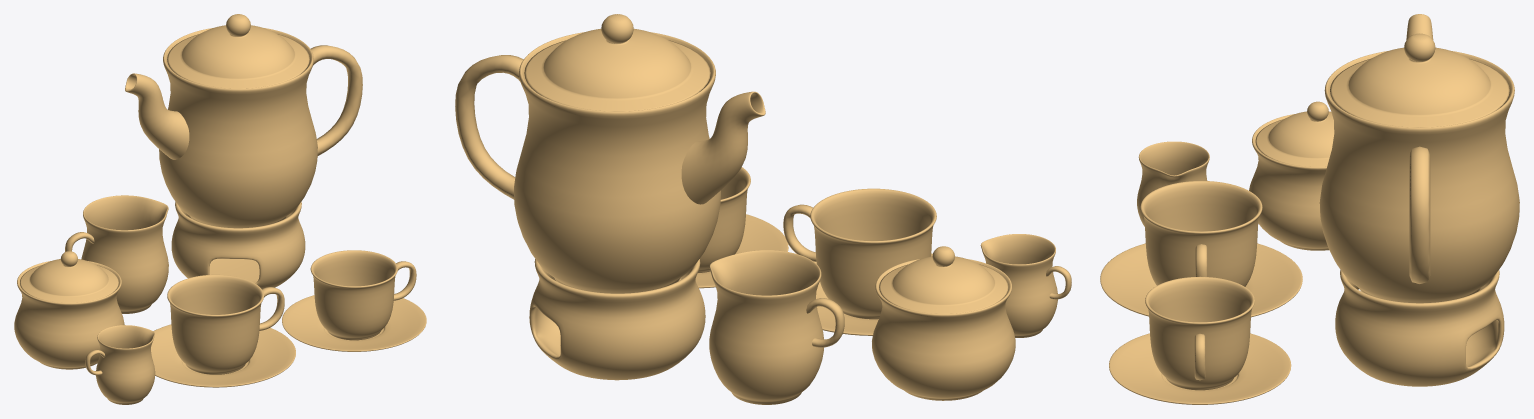
3 views of the same model, side by side, from view 1: azimuth 30°, elevation 25°; view 2: azimuth 150°, elevation 25°; view 3: azimuth 270°, elevation 25° (orthographic). The views are drawn at different scales.
Parts seen in each view (by area): view 1: Archmodels57_053_06, Archmodels57_053_01, Archmodels57_053_05, Archmodels57_053_09, Archmodels57_053_02, Archmodels57_053_08, Archmodels57_053_04, Archmodels57_053_00, Archmodels57_053_03, Archmodels57_053_07; view 2: Archmodels57_053_06, Archmodels57_053_05, Archmodels57_053_09, Archmodels57_053_01, Archmodels57_053_08, Archmodels57_053_07, Archmodels57_053_04, Archmodels57_053_02, Archmodels57_053_03, Archmodels57_053_00; view 3: Archmodels57_053_06, Archmodels57_053_09, Archmodels57_053_01, Archmodels57_053_02, Archmodels57_053_03, Archmodels57_053_08, Archmodels57_053_00, Archmodels57_053_07, Archmodels57_053_04.
Part boxes in pixels (left/top/right/bottom): Archmodels57_053_06: left=125, top=14, right=362, bottom=228; Archmodels57_053_01: left=167, top=274, right=284, bottom=374; Archmodels57_053_05: left=65, top=195, right=168, bottom=313; Archmodels57_053_09: left=171, top=201, right=305, bottom=288; Archmodels57_053_02: left=310, top=250, right=416, bottom=340; Archmodels57_053_08: left=14, top=261, right=124, bottom=369; Archmodels57_053_04: left=85, top=325, right=155, bottom=404; Archmodels57_053_00: left=151, top=324, right=295, bottom=387; Archmodels57_053_03: left=282, top=295, right=426, bottom=351; Archmodels57_053_07: left=20, top=251, right=118, bottom=302; Archmodels57_053_06: left=455, top=14, right=765, bottom=293; Archmodels57_053_05: left=709, top=250, right=844, bottom=404; Archmodels57_053_09: left=529, top=259, right=705, bottom=380; Archmodels57_053_01: left=783, top=188, right=936, bottom=319; Archmodels57_053_08: left=872, top=259, right=1015, bottom=400; Archmodels57_053_07: left=879, top=246, right=1008, bottom=313; Archmodels57_053_04: left=980, top=234, right=1071, bottom=337; Archmodels57_053_02: left=698, top=167, right=750, bottom=272; Archmodels57_053_03: left=679, top=214, right=788, bottom=288; Archmodels57_053_00: left=814, top=253, right=932, bottom=335; Archmodels57_053_06: left=1319, top=14, right=1519, bottom=303; Archmodels57_053_09: left=1335, top=270, right=1504, bottom=386; Archmodels57_053_01: left=1140, top=181, right=1262, bottom=286; Archmodels57_053_02: left=1145, top=276, right=1254, bottom=390; Archmodels57_053_03: left=1109, top=333, right=1291, bottom=404; Archmodels57_053_08: left=1249, top=114, right=1328, bottom=250; Archmodels57_053_00: left=1100, top=243, right=1302, bottom=317; Archmodels57_053_07: left=1255, top=101, right=1334, bottom=166; Archmodels57_053_04: left=1137, top=141, right=1209, bottom=226.
Size of the model in its own units: 320 by 208 by 243.
